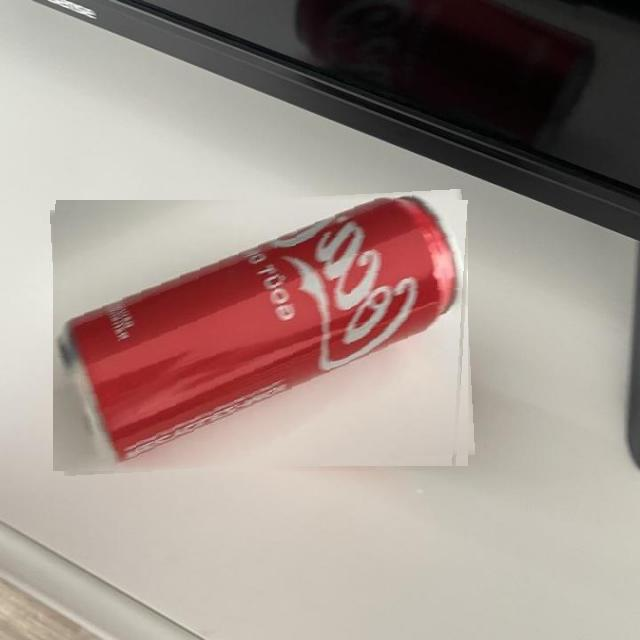recyclable: (53, 195, 472, 471)
